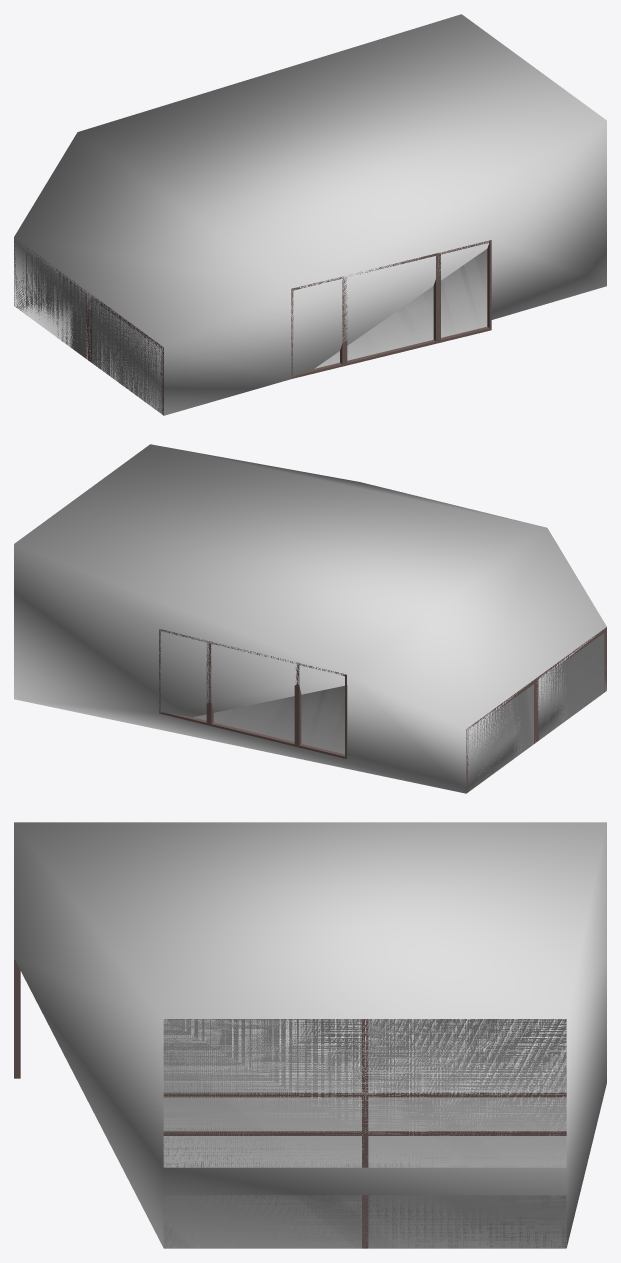
The picture shows the model from 3 angles, top to bottom: view 1: azimuth 30°, elevation 25°; view 2: azimuth 150°, elevation 25°; view 3: azimuth 270°, elevation 25°; orthographic projection. The views are drawn at different scales.
Parts seen in each view (by area): view 1: struct_city_block_tall_tier3_a_01_col, struct_city_block_tall_tier3_a_01; view 2: struct_city_block_tall_tier3_a_01_col, struct_city_block_tall_tier3_a_01; view 3: struct_city_block_tall_tier3_a_01_col, struct_city_block_tall_tier3_a_01.
Boxes of the visible parts, left/top/right/bottom form: struct_city_block_tall_tier3_a_01_col: left=14, top=14, right=606, bottom=415; struct_city_block_tall_tier3_a_01: left=14, top=240, right=491, bottom=415; struct_city_block_tall_tier3_a_01_col: left=14, top=444, right=606, bottom=793; struct_city_block_tall_tier3_a_01: left=159, top=627, right=606, bottom=793; struct_city_block_tall_tier3_a_01_col: left=14, top=822, right=606, bottom=1248; struct_city_block_tall_tier3_a_01: left=14, top=958, right=566, bottom=1248.
Size of the model in its own units: 8.68 by 2.95 by 6.91.
Materials: 2 (2 with a texture image).
